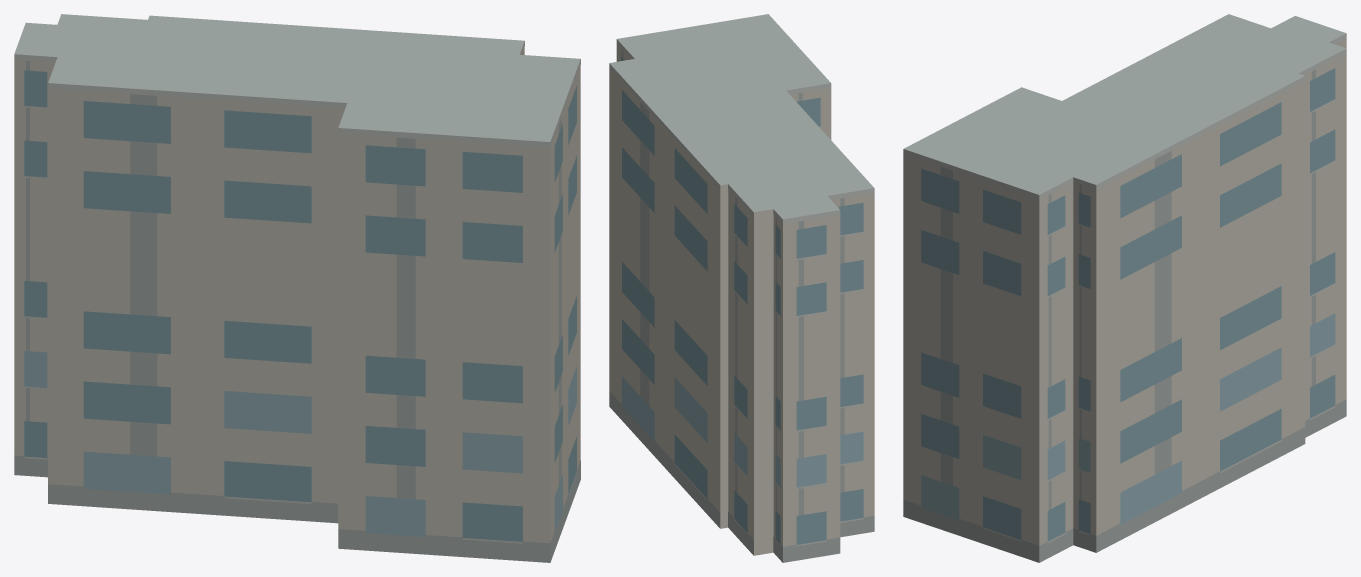
The model's file is survey-upis-32619123.glb.
3 views of the same model, side by side, from view 1: azimuth 30°, elevation 25°; view 2: azimuth 150°, elevation 25°; view 3: azimuth 270°, elevation 25° (orthographic). The views are drawn at different scales.
Visible parts, largest first — view 1: survey-upis-32619123.tmp; view 2: survey-upis-32619123.tmp; view 3: survey-upis-32619123.tmp.
Part boxes in pixels (x1,y1,x2,y2): survey-upis-32619123.tmp: [14, 14, 580, 562]; survey-upis-32619123.tmp: [609, 14, 874, 562]; survey-upis-32619123.tmp: [903, 14, 1346, 562].
Bounding box in the file's own units: 19 × 18 × 19.66.
